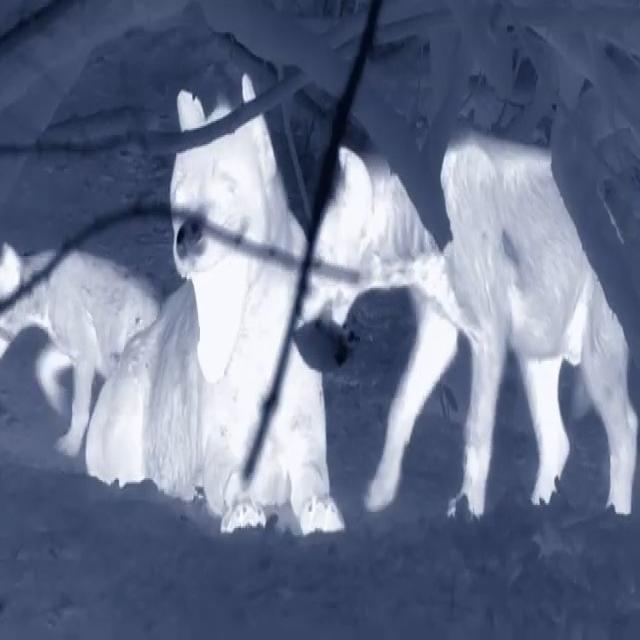animal: (293, 118, 640, 582), (87, 81, 385, 614), (0, 207, 183, 518)
